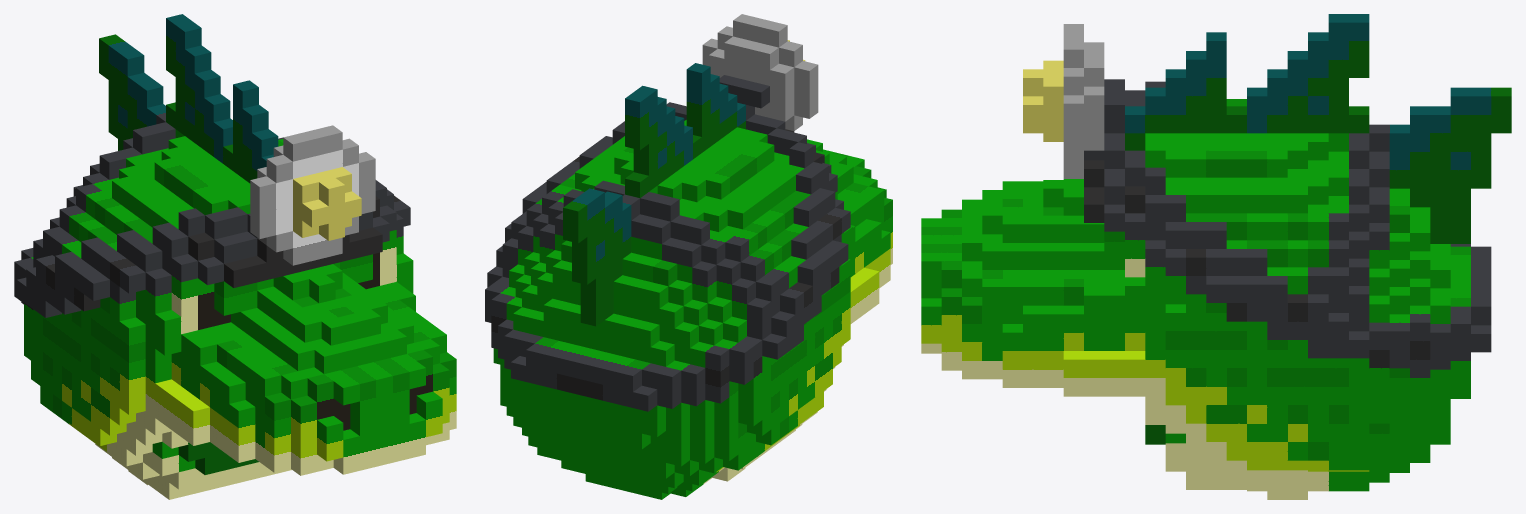
File: doctor.gltf
The picture shows the model from 3 angles, left to right: view 1: azimuth 30°, elevation 25°; view 2: azimuth 150°, elevation 25°; view 3: azimuth 270°, elevation 25°; orthographic projection. The views are drawn at different scales.
Parts seen in each view (by area): view 1: 04_Zilla_Head_Doctor-Mesh; view 2: 04_Zilla_Head_Doctor-Mesh; view 3: 04_Zilla_Head_Doctor-Mesh.
Boxes of the visible parts, bbox=[...] form: 04_Zilla_Head_Doctor-Mesh: bbox=[14, 14, 456, 499]; 04_Zilla_Head_Doctor-Mesh: bbox=[485, 14, 892, 499]; 04_Zilla_Head_Doctor-Mesh: bbox=[921, 14, 1511, 499].
Bounding box in the file's own units: 19 × 24 × 29.
1 material, 1 textured.
